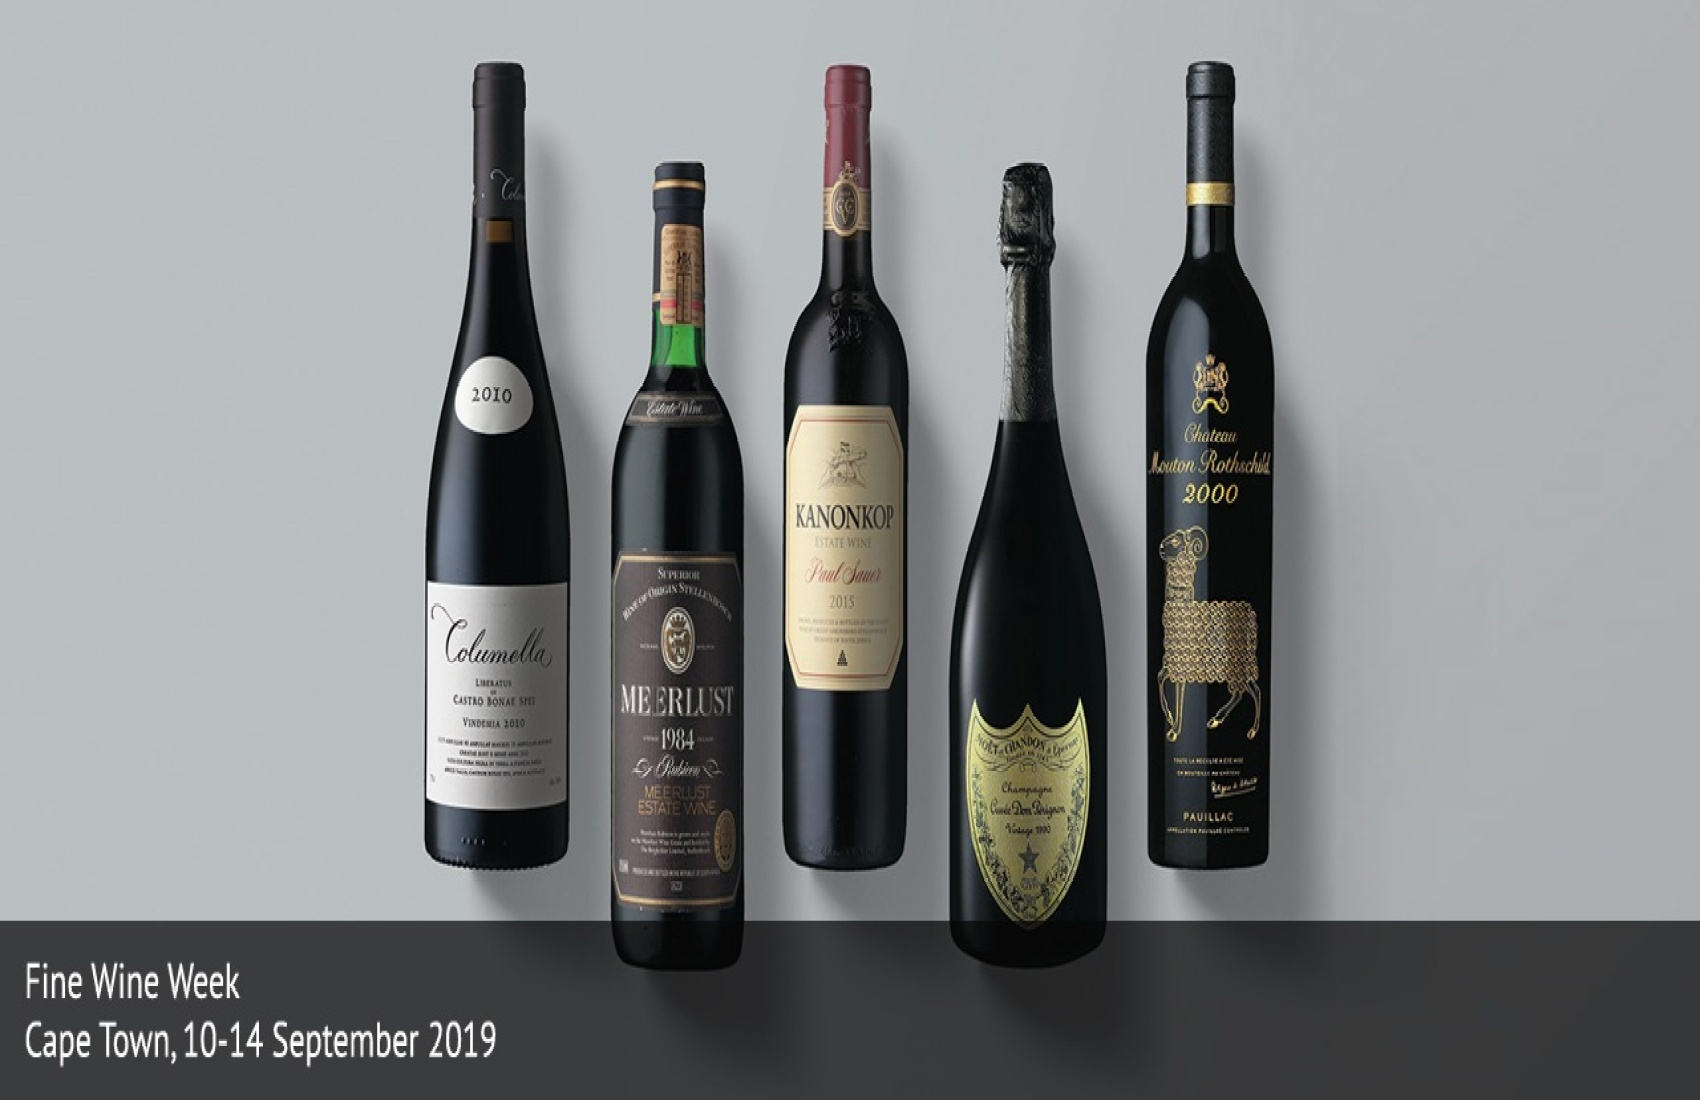wine: (608, 150, 753, 958), (955, 147, 1099, 956), (424, 50, 567, 857), (787, 47, 905, 867), (1146, 51, 1263, 871)
